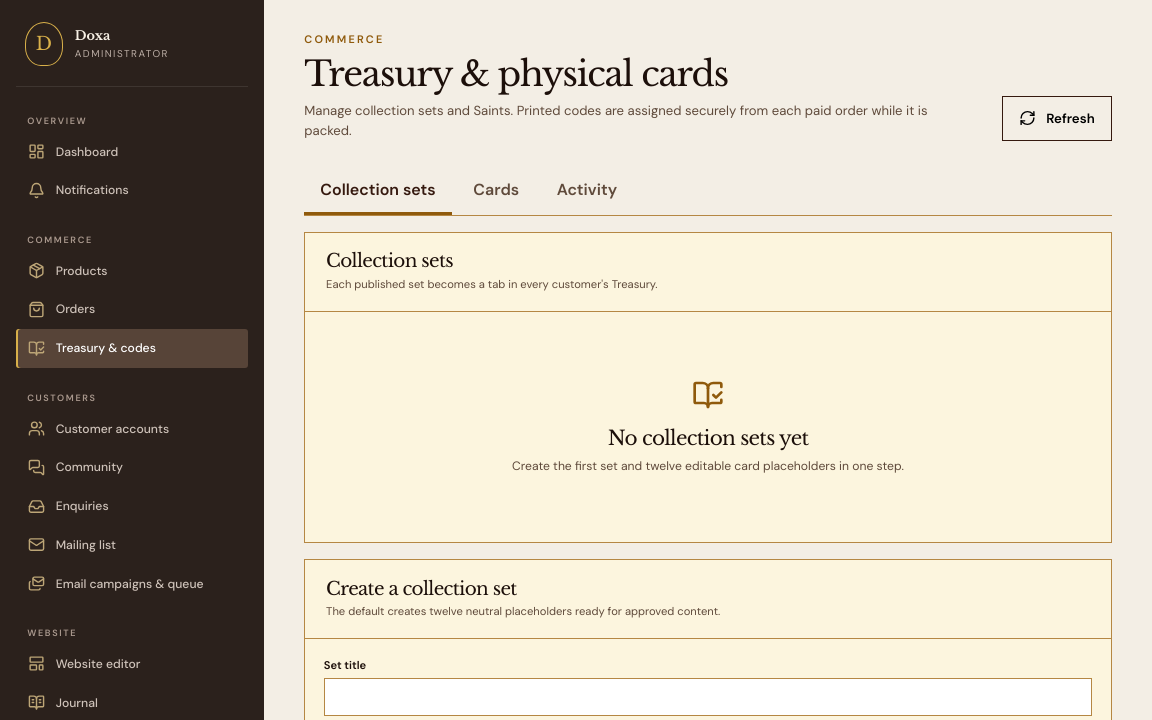
Test: routed administrator workspace › opens the Treasury workspace with set, card and physical activity management
This screenshot has width=1152, height=720.
Expected: the heading "Treasury & physical cards" is shown, [304,52,728,95]
Expected: the heading "Create a collection set" is shown, [326,576,517,600]
Click the button "Activity": (587, 191) [541,167,633,215]
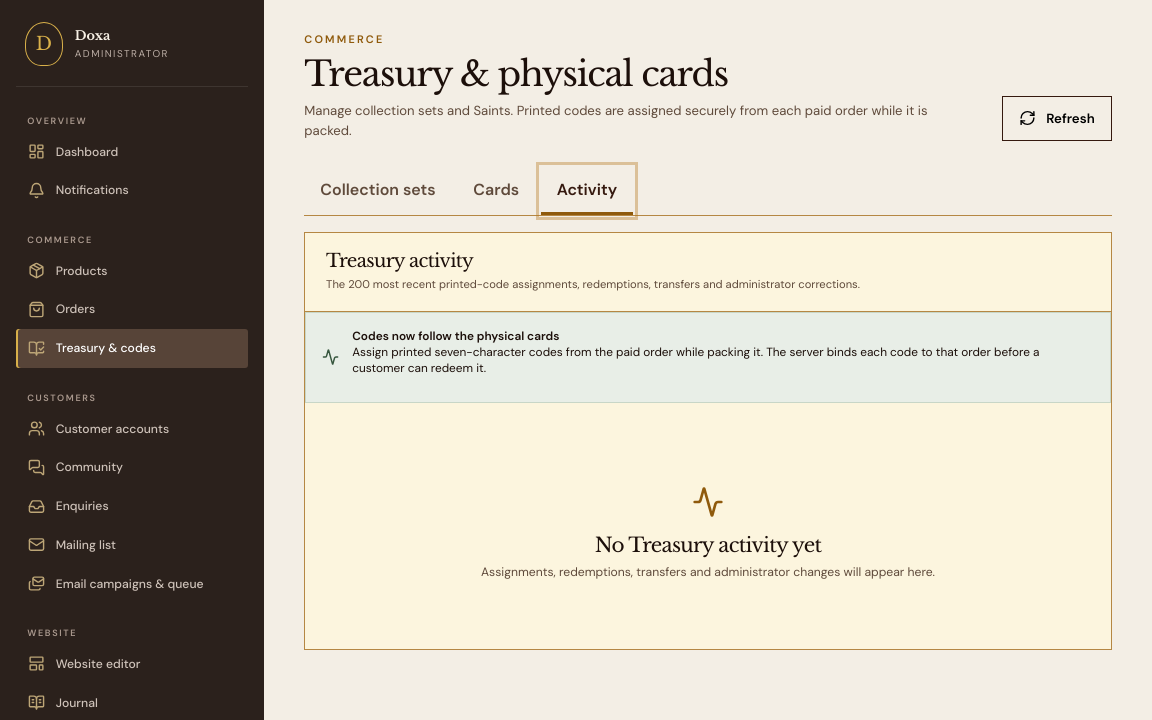
Now the heading "Treasury activity" is shown, box [326,249,473,272]
